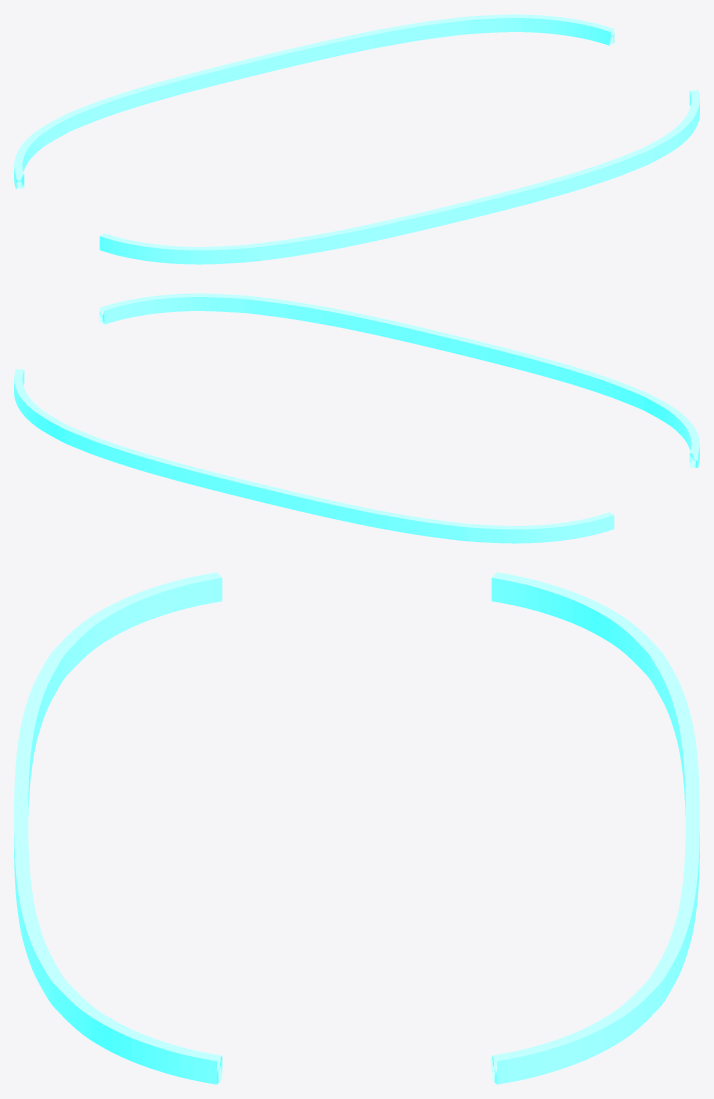
The model's file is mesh_Galaxy_Wall_HockeyCol.fbx.
The picture shows the model from 3 angles, top to bottom: view 1: azimuth 30°, elevation 25°; view 2: azimuth 150°, elevation 25°; view 3: azimuth 270°, elevation 25°; orthographic projection. The views are drawn at different scales.
Parts seen in each view (by area): view 1: mesh_SplineWall_HK_Top, mesh_SplineWall_HK_Bottom, mesh_SplineWall_HK_LeftD, mesh_SplineWall_HK_RightT, mesh_SplineWall_HK_HD, mesh_SplineWall_HK_BG, mesh_SplineWall_HK_HG, mesh_SplineWall_HK_BD, mesh_SplineWall_HK_RightD, mesh_SplineWall_HK_LeftT; view 2: mesh_SplineWall_HK_Bottom, mesh_SplineWall_HK_Top, mesh_SplineWall_HK_LeftT, mesh_SplineWall_HK_RightD, mesh_SplineWall_HK_BD, mesh_SplineWall_HK_HG, mesh_SplineWall_HK_BG, mesh_SplineWall_HK_HD, mesh_SplineWall_HK_RightT, mesh_SplineWall_HK_LeftD; view 3: mesh_SplineWall_HK_Top, mesh_SplineWall_HK_Bottom, mesh_SplineWall_HK_LeftT, mesh_SplineWall_HK_LeftD, mesh_SplineWall_HK_RightT, mesh_SplineWall_HK_RightD, mesh_SplineWall_HK_HG, mesh_SplineWall_HK_BG, mesh_SplineWall_HK_HD, mesh_SplineWall_HK_BD.
Part boxes in pixels (x1,y1,x2,y2): mesh_SplineWall_HK_Top: (240, 146, 653, 262); mesh_SplineWall_HK_Bottom: (61, 16, 474, 132); mesh_SplineWall_HK_LeftD: (535, 15, 614, 45); mesh_SplineWall_HK_RightT: (99, 233, 178, 263); mesh_SplineWall_HK_HD: (177, 245, 240, 264); mesh_SplineWall_HK_BG: (473, 14, 536, 33); mesh_SplineWall_HK_HG: (647, 124, 687, 161); mesh_SplineWall_HK_BD: (27, 117, 67, 154); mesh_SplineWall_HK_RightD: (14, 139, 34, 188); mesh_SplineWall_HK_LeftT: (679, 90, 699, 138); mesh_SplineWall_HK_Bottom: (60, 425, 473, 541); mesh_SplineWall_HK_Top: (239, 295, 652, 411); mesh_SplineWall_HK_LeftT: (99, 294, 178, 324); mesh_SplineWall_HK_RightD: (535, 512, 614, 542); mesh_SplineWall_HK_BD: (473, 524, 536, 543); mesh_SplineWall_HK_HG: (177, 293, 240, 312); mesh_SplineWall_HK_BG: (26, 403, 66, 440); mesh_SplineWall_HK_HD: (646, 396, 686, 433); mesh_SplineWall_HK_RightT: (679, 418, 699, 467); mesh_SplineWall_HK_LeftD: (14, 369, 34, 417); mesh_SplineWall_HK_Top: (14, 648, 68, 1008); mesh_SplineWall_HK_Bottom: (645, 648, 699, 1008); mesh_SplineWall_HK_LeftT: (104, 1021, 222, 1084); mesh_SplineWall_HK_LeftD: (491, 1021, 609, 1084); mesh_SplineWall_HK_RightT: (105, 572, 222, 635); mesh_SplineWall_HK_RightD: (491, 572, 608, 635); mesh_SplineWall_HK_HG: (55, 983, 114, 1047); mesh_SplineWall_HK_BG: (599, 983, 658, 1047); mesh_SplineWall_HK_HD: (55, 608, 115, 673); mesh_SplineWall_HK_BD: (598, 608, 658, 673).
Bounding box in the file's own units: 50.09 × 1.12 × 29.7.
